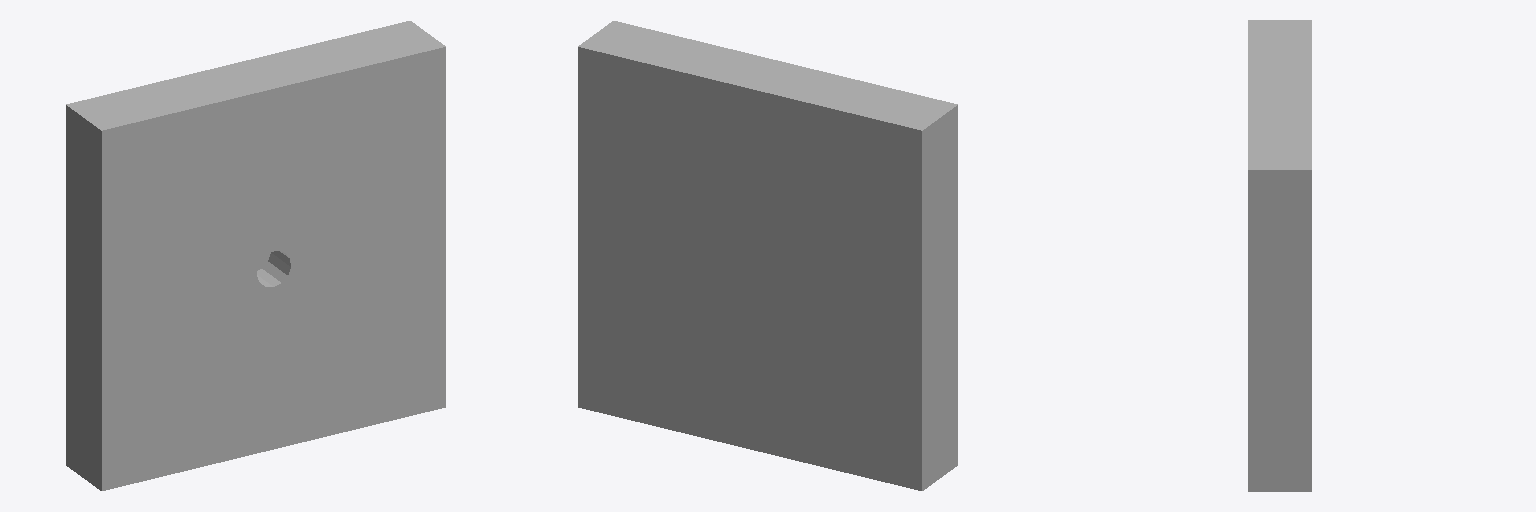
URDF robot description (root):
<?xml version='1.0' encoding='utf-8'?>
<robot name="root">
  <link name="link_001">
    <visual>
      <origin xyz="0 0 0" rpy="0 0 0" />
      <geometry>
        <mesh filename="fc8ac6ef5eb0d2c78f2991f248eee9a98b6d3481e08d5fd1a35211b122728e11_scale_240.stl" scale="1.0000E+00 1.0000E+00 1.0000E+00" />
      </geometry>
      <material name="">
        <color rgba="7.50E-01 7.50E-01 7.50E-01 1" />
      </material>
    </visual>
    <collision>
      <origin xyz="0 0 0" rpy="0 0 0" />
      <geometry>
        <mesh filename="fc8ac6ef5eb0d2c78f2991f248eee9a98b6d3481e08d5fd1a35211b122728e11_scale_240.stl" scale="1.0000E+00 1.0000E+00 1.0000E+00" />
      </geometry>
    </collision>
  </link>
</robot>

--- Render facts (derived) ---
Views: 3 orthographic renders of the robot side by side, from view 1: azimuth 30°, elevation 25°; view 2: azimuth 150°, elevation 25°; view 3: azimuth 270°, elevation 25°.
Robot: root — 1 links, 0 joints (none); root link link_001; default pose: all joints at 0.
Links seen in each view (by area): view 1: link_001; view 2: link_001; view 3: link_001.
Boxes of the visible links, left/top/right/bottom form: link_001: left=66, top=21, right=445, bottom=490; link_001: left=578, top=21, right=957, bottom=490; link_001: left=1248, top=20, right=1311, bottom=491.
Size in the robot's own frame: 0.12 by 0.0216 by 0.12 metres.
1 mesh visuals loaded from 1 distinct referenced files (1 binary STL).
